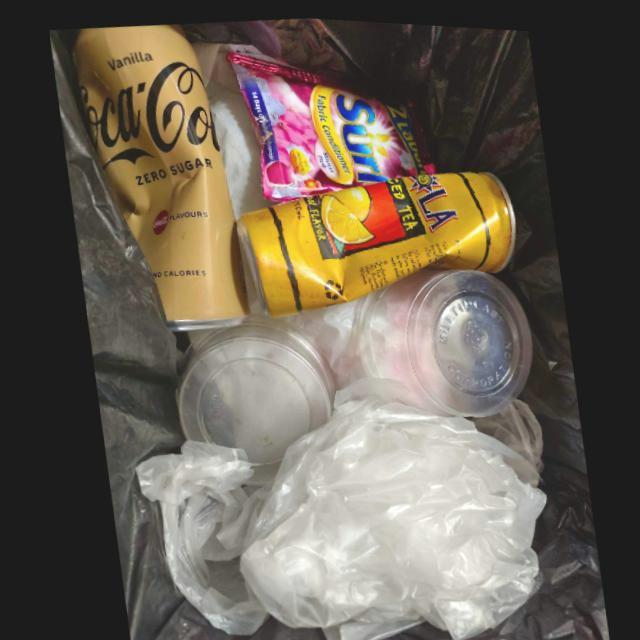aluminum: (72, 24, 246, 328), (234, 166, 514, 315)
plastic_bag: (131, 374, 545, 640)
plastic_container: (351, 263, 530, 412), (176, 319, 333, 482)
plastic_sachet: (226, 49, 434, 200)
